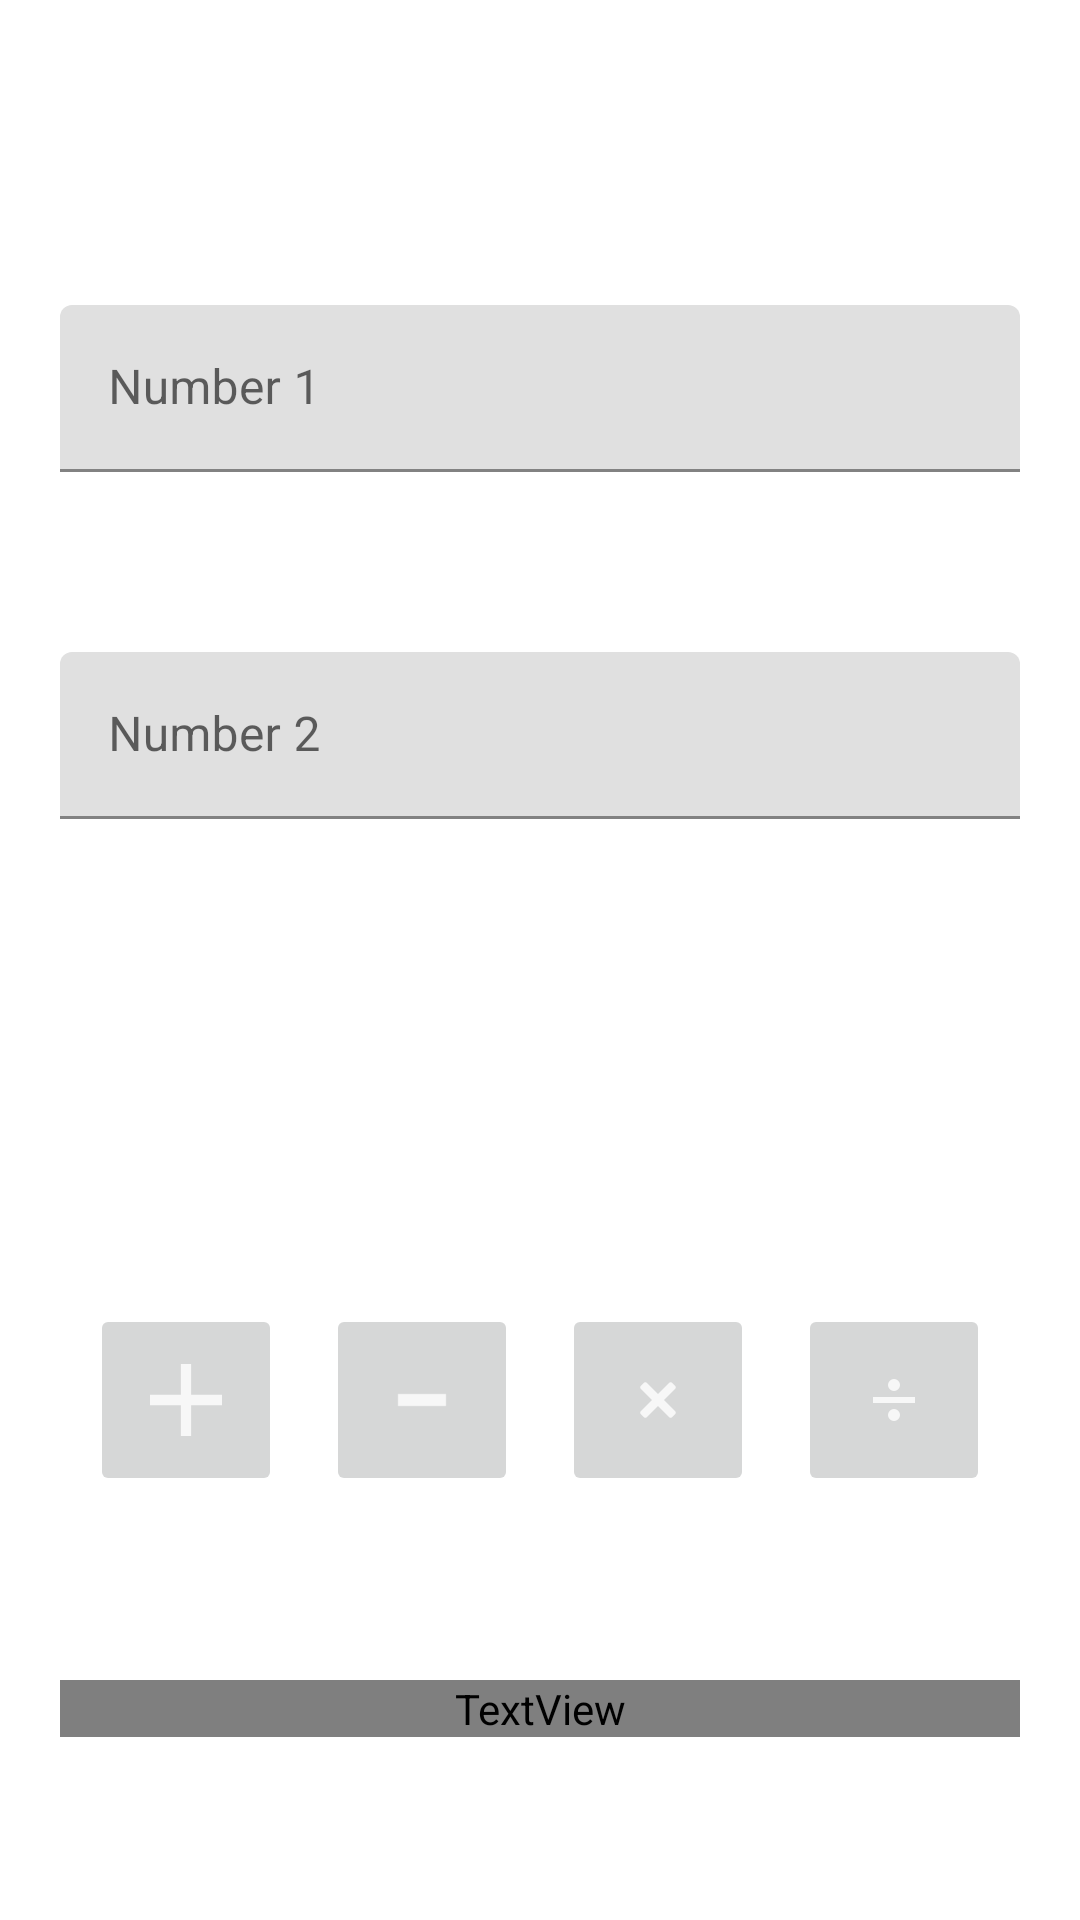

Point at icon controls on the screen. Image size 1080x1920, points as (x=x, y=y).
add: (x=186, y=1400)
divide: (x=894, y=1400)
multiply: (x=658, y=1400)
subtract: (x=422, y=1400)
